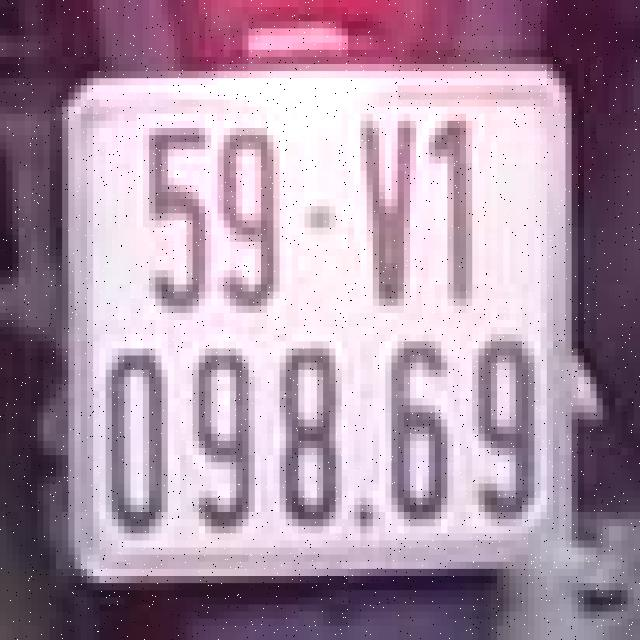0: (87, 334, 174, 548)
1: (426, 107, 488, 313)
5: (137, 114, 205, 313)
6: (366, 323, 454, 530)
8: (264, 338, 351, 537)
9: (472, 331, 547, 537), (211, 121, 286, 313), (186, 338, 255, 537)
V: (345, 103, 419, 309)
